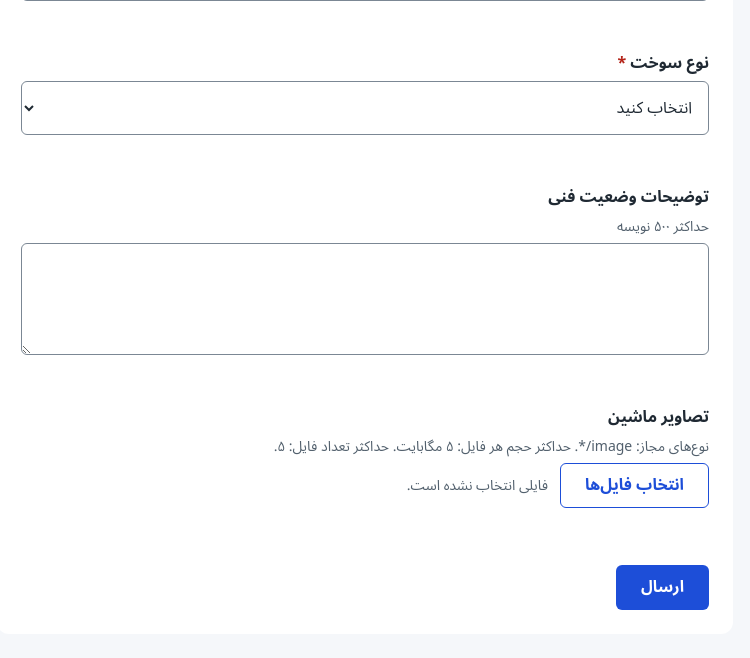
Test case: axe after interaction (TC-A02) › finds no violations in the invalid form with its errors
The width and height of the screenshot is (750, 658).
(page scrolled)
Click the button "ارسال" at (662, 588), box [616,565,709,610]
(page scrolled)
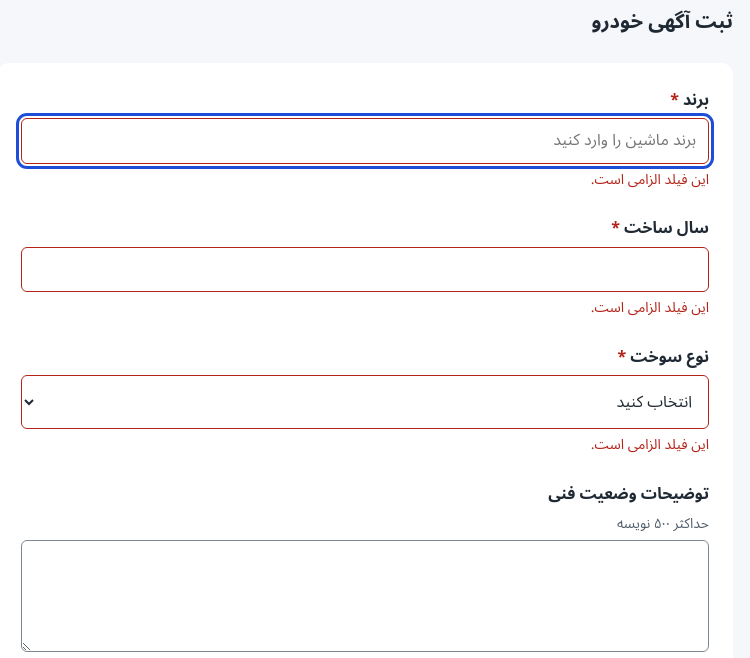
Expected: the text "این فیلد الزامی است." below "برند" is shown, [591,165,709,194]
